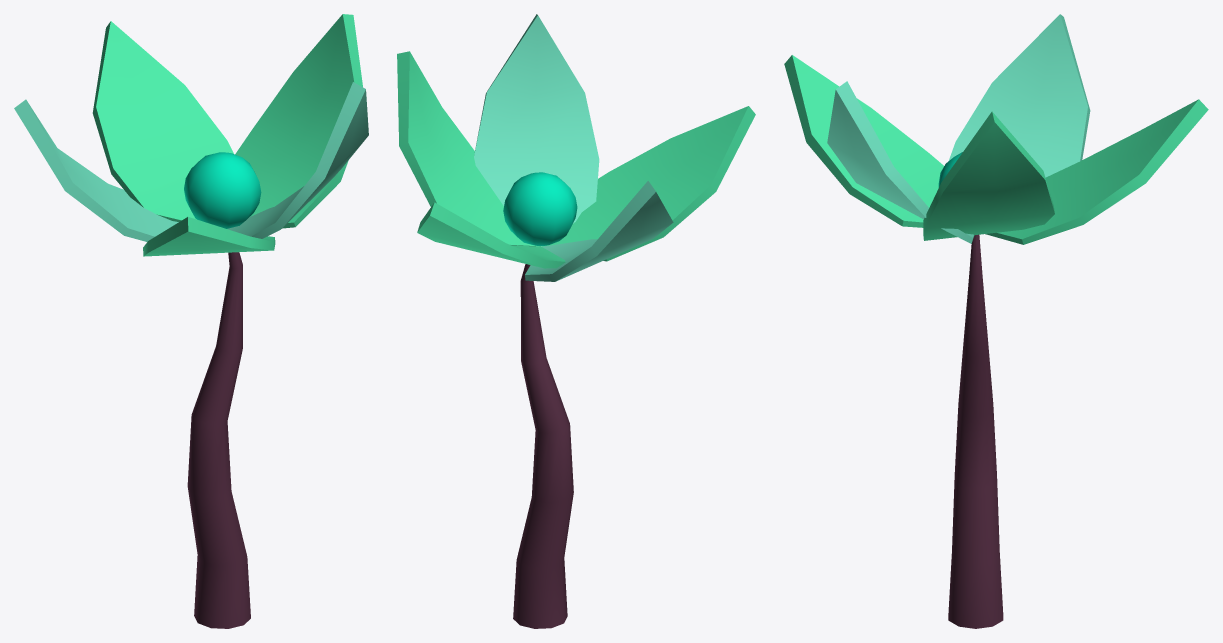
The model's file is ArbreMere_Brin.fbx.
The picture shows the model from 3 angles, left to right: view 1: azimuth 30°, elevation 25°; view 2: azimuth 150°, elevation 25°; view 3: azimuth 270°, elevation 25°; orthographic projection. The views are drawn at different scales.
Visible parts, largest first — view 1: grp_ArbreMere_Brin; view 2: grp_ArbreMere_Brin; view 3: grp_ArbreMere_Brin.
Part boxes in pixels (left/top/right/bottom): grp_ArbreMere_Brin: left=14, top=14, right=368, bottom=628; grp_ArbreMere_Brin: left=397, top=14, right=755, bottom=628; grp_ArbreMere_Brin: left=784, top=14, right=1208, bottom=628.
Bounding box in the file's own units: 76.68 × 136 × 92.02.
